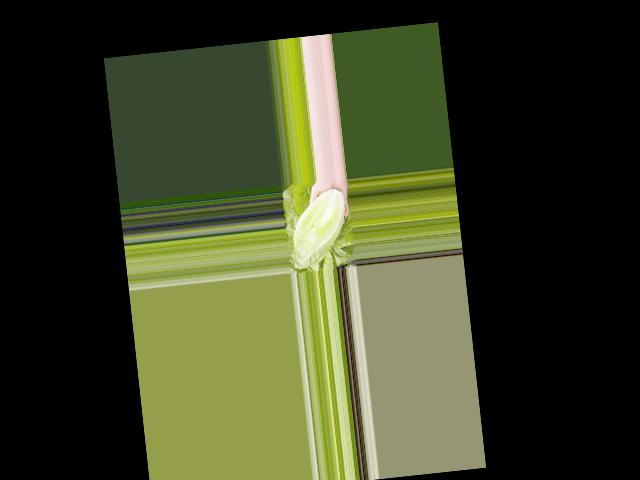lettuce: (285, 186, 353, 270)
